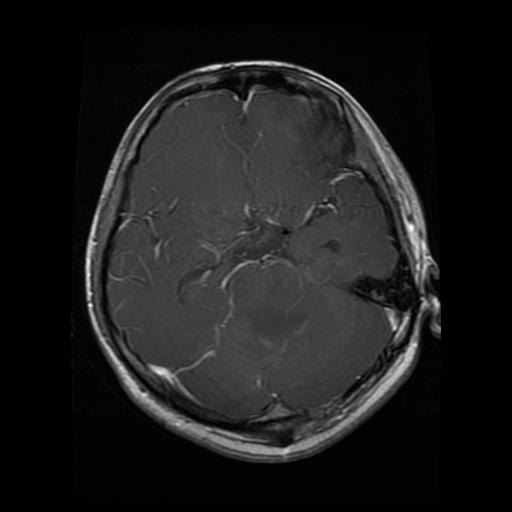Gliomia_tumour: (293, 97, 357, 175)
